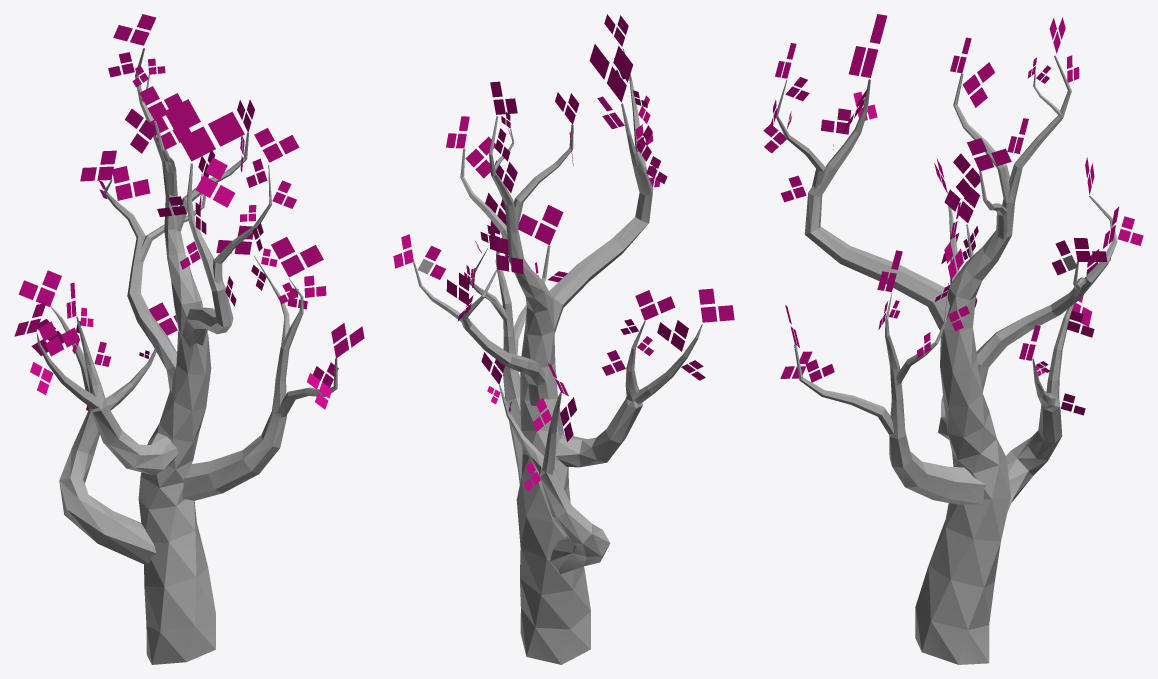
The model's file is Deeptree03_LOD-01.fbx.
The picture shows the model from 3 angles, left to right: view 1: azimuth 30°, elevation 25°; view 2: azimuth 150°, elevation 25°; view 3: azimuth 270°, elevation 25°; orthographic projection. The views are drawn at different scales.
Visible parts, largest first — view 1: Deeptree03_LOD_01.001; view 2: Deeptree03_LOD_01.001; view 3: Deeptree03_LOD_01.001.
Boxes of the visible parts, x1,y1,x2,y2 form: Deeptree03_LOD_01.001: [14, 14, 364, 664]; Deeptree03_LOD_01.001: [393, 14, 734, 664]; Deeptree03_LOD_01.001: [763, 14, 1143, 664].
Size of the model in its own units: 155 by 316 by 169.
